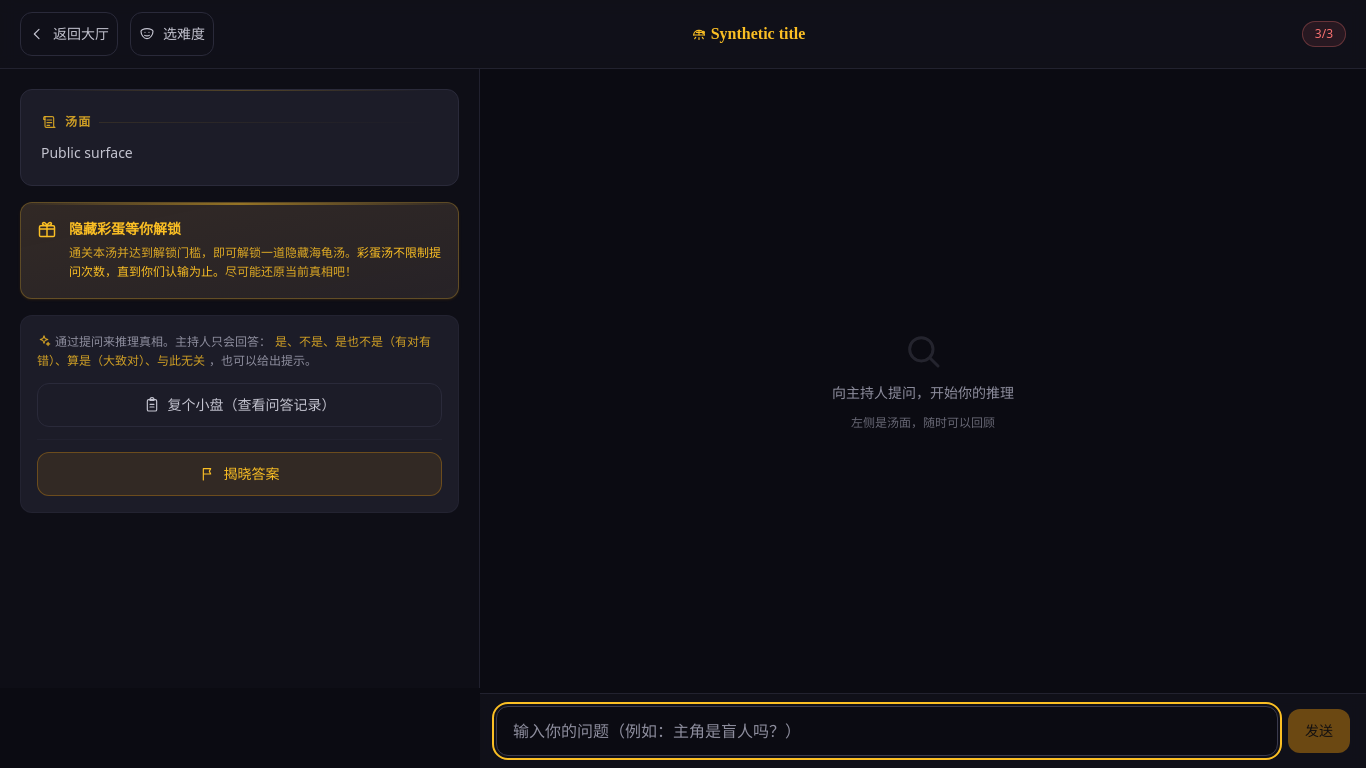
Scenario: old reveal keeps its score but labels it historical
Expected: the text "Public surface" is shown, [41,143,133,162]
Click the button "揭晓答案".
click(240, 474)  # box [37,452,442,496]
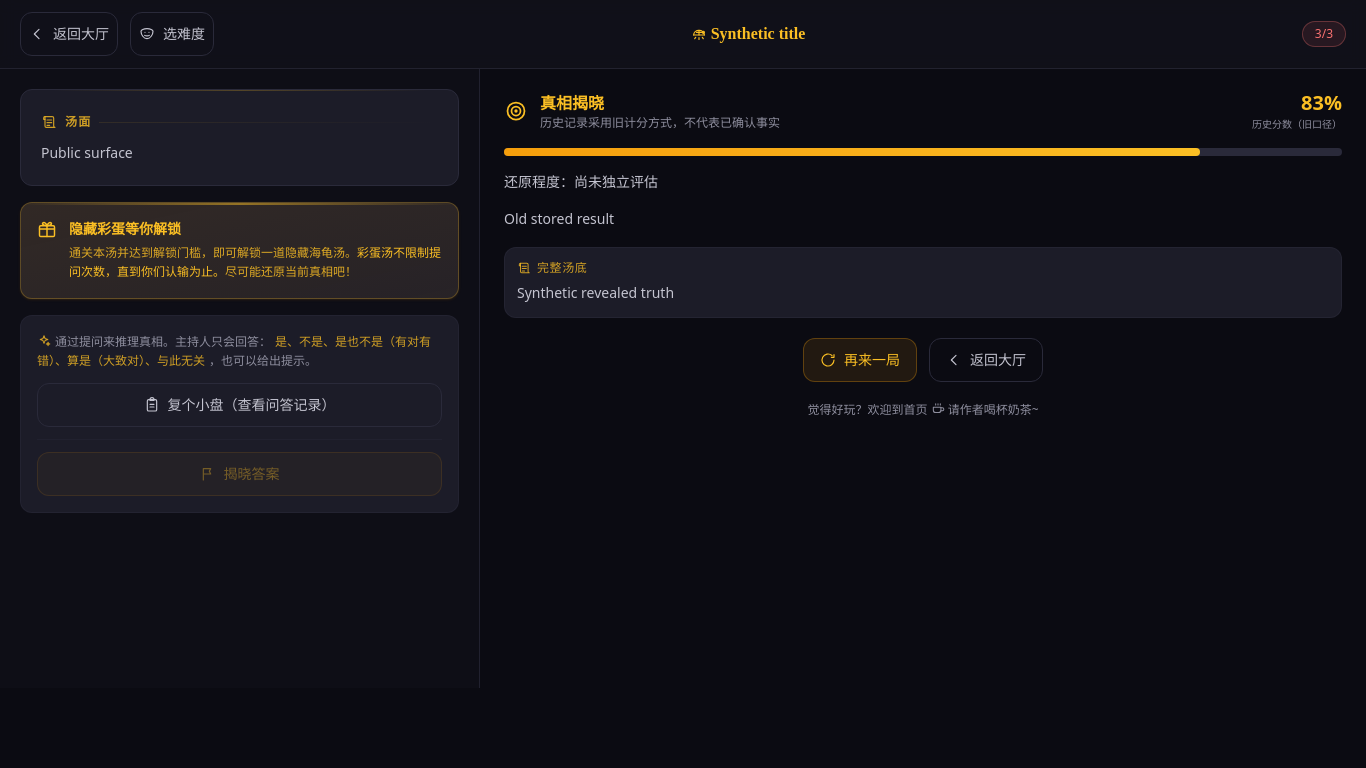
Expected: the text "Synthetic revealed truth" is shown, [517,283,674,302]
Expected: the text "历史分数（旧口径）" is shown, [1252,117,1342,132]
Expected: the text "历史记录采用旧计分方式，不代表已确认事实" is shown, [540,114,780,130]
